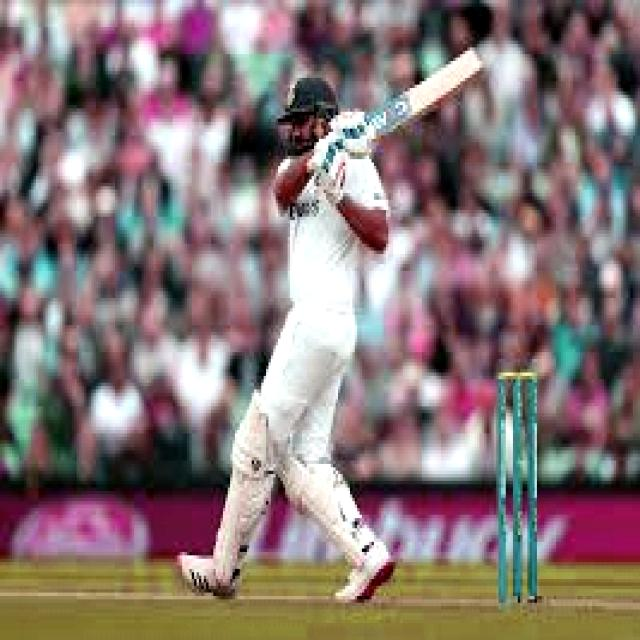toe: (458, 49, 485, 83)
